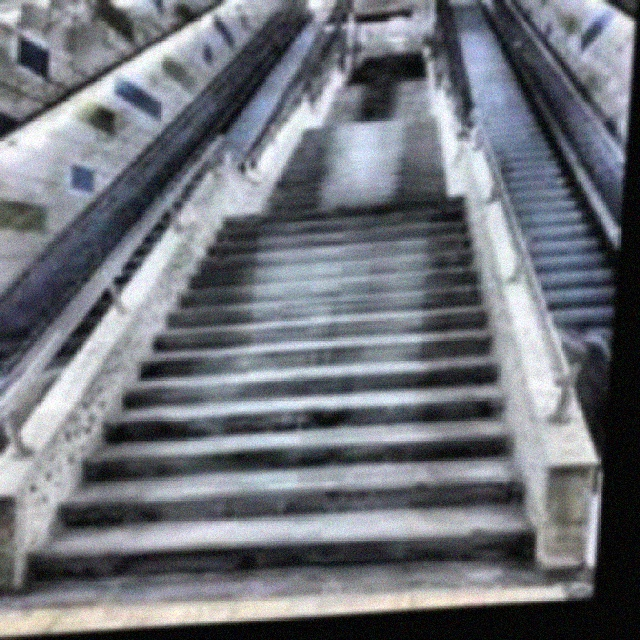stair: (59, 194, 603, 612)
